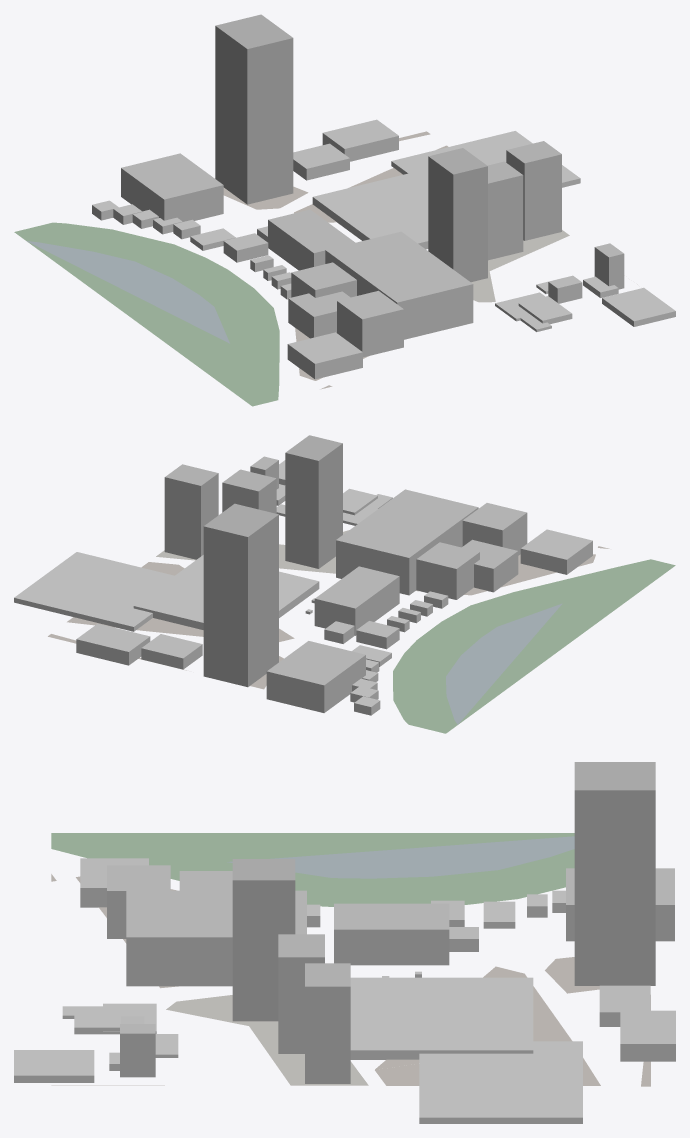
File: 123_86_mid.glb
The picture shows the model from 3 angles, top to bottom: view 1: azimuth 30°, elevation 25°; view 2: azimuth 150°, elevation 25°; view 3: azimuth 270°, elevation 25°; orthographic projection. The views are drawn at different scales.
Size of the model in its own units: 575 by 180 by 552.
